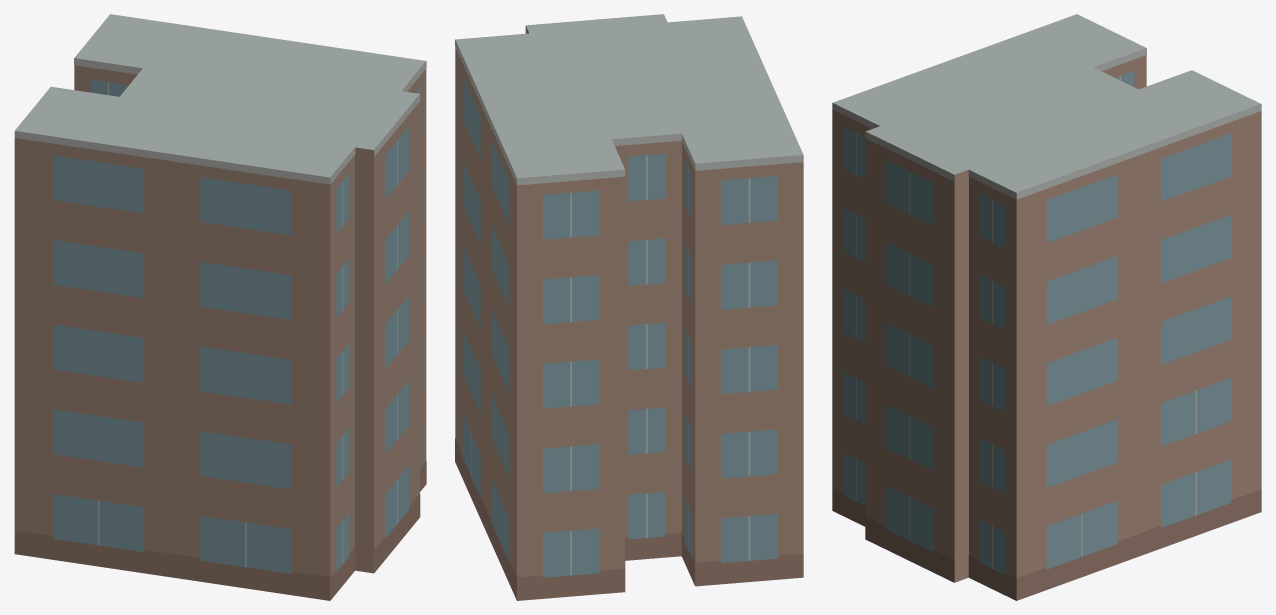
The model's file is survey-upis-32668834.glb.
The picture shows the model from 3 angles, left to right: view 1: azimuth 30°, elevation 25°; view 2: azimuth 150°, elevation 25°; view 3: azimuth 270°, elevation 25°; orthographic projection. The views are drawn at different scales.
Visible parts, largest first — view 1: survey-upis-32668834.tmp; view 2: survey-upis-32668834.tmp; view 3: survey-upis-32668834.tmp.
Boxes of the visible parts, x1=… form: survey-upis-32668834.tmp: x1=14, y1=14, x2=426, y2=600; survey-upis-32668834.tmp: x1=455, y1=14, x2=803, y2=600; survey-upis-32668834.tmp: x1=832, y1=14, x2=1261, y2=600.
Size of the model in its own units: 13.64 by 14.5 by 13.83.
